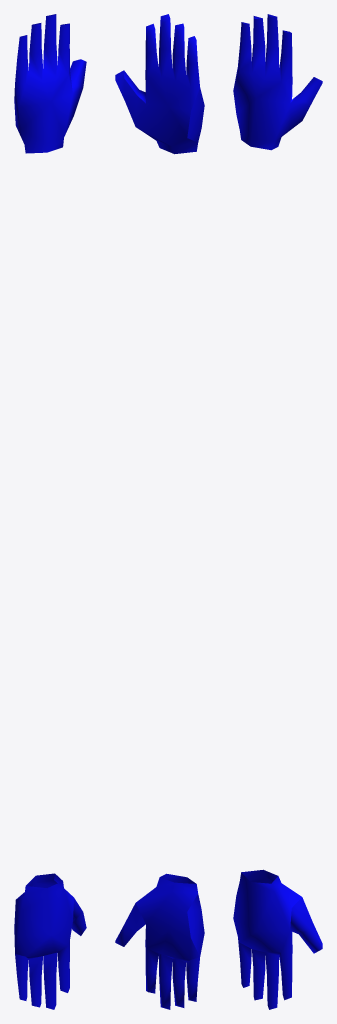
3 renders of one model, left to right at view 1: azimuth 30°, elevation 25°; view 2: azimuth 150°, elevation 25°; view 3: azimuth 330°, elevation 25°, orthographic.
Parts seen in each view (by area): view 1: ka_hand_001; view 2: ka_hand_001; view 3: ka_hand_001.
Part boxes in pixels (x1,y1,x2,y2): ka_hand_001: (14,14,86,1009); ka_hand_001: (115,14,204,1009); ka_hand_001: (233,14,322,1009).
Bounding box in the file's own units: 16.7 × 201 × 7.38.
